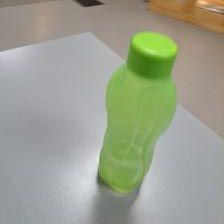bottle: (95, 28, 180, 195)
